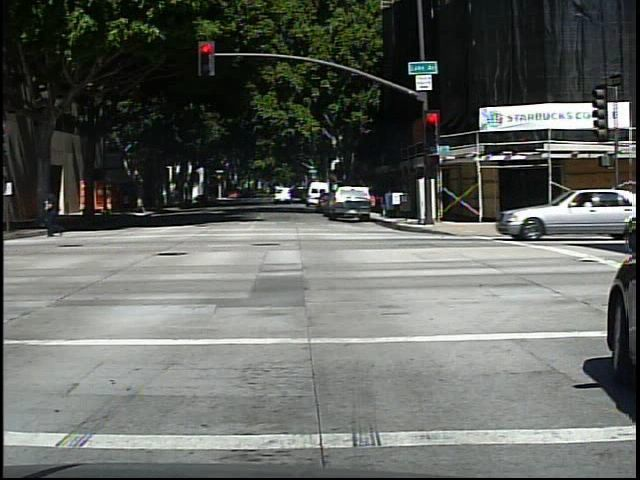person: (41, 187, 69, 240)
